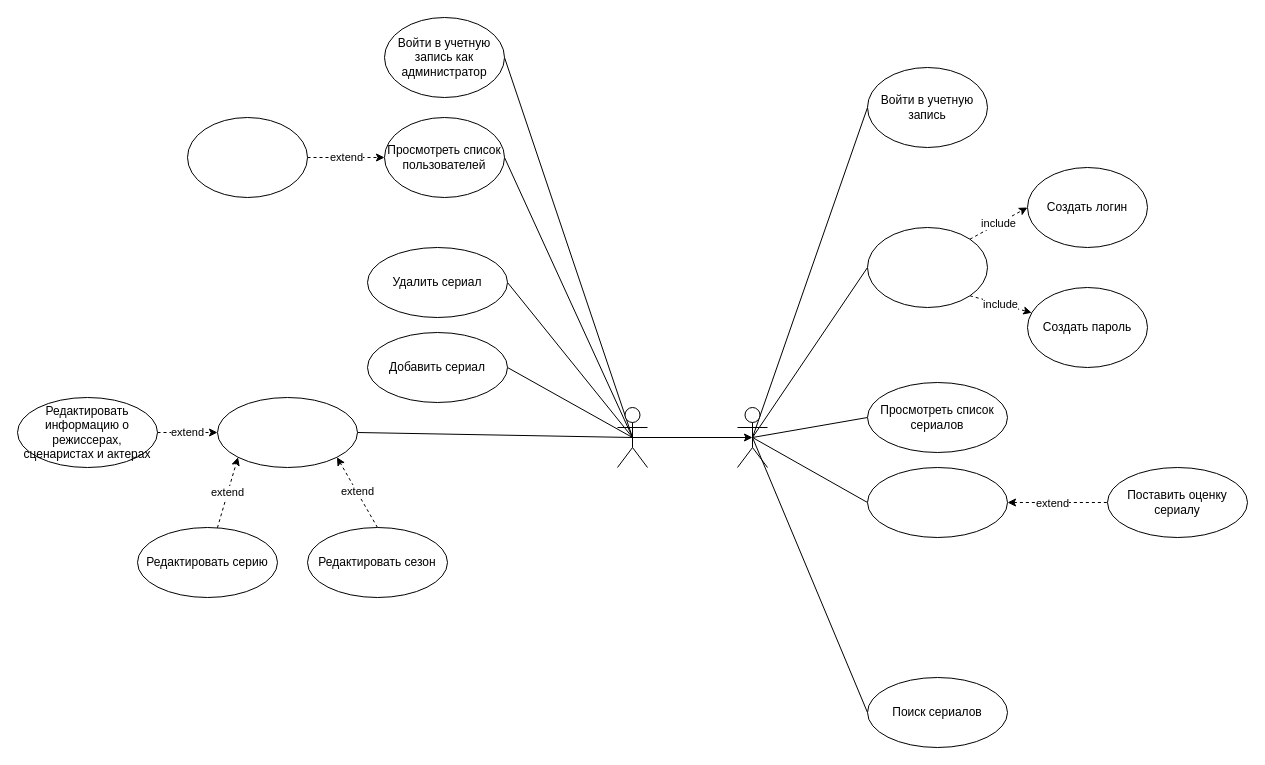
The diagram is 1265 pixels wide and 765 high, and some of its shapes have lost their labels. The shapes that lost their labels are listed below. From the top down, each one's box as (x1, y1, x2, y2) in pixels, then its label:
(186, 116, 308, 198): Удалить пользователя
(866, 226, 988, 308): Регистрация
(216, 396, 358, 468): Редактрировать сериал
(616, 406, 648, 468): Администратор
(736, 406, 768, 468): Пользователь
(866, 466, 1008, 538): Посмотреть сериал
